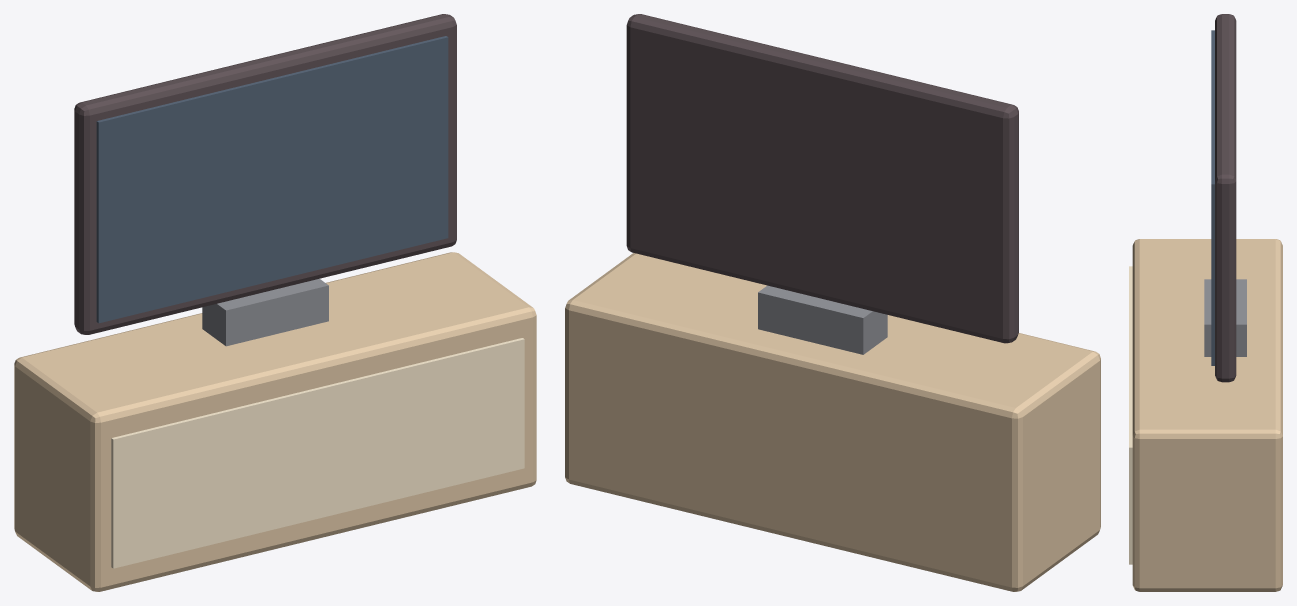
3 renders of one model, left to right at view 1: azimuth 30°, elevation 25°; view 2: azimuth 150°, elevation 25°; view 3: azimuth 270°, elevation 25°, orthographic. The views are drawn at different scales.
Visible parts, largest first — view 1: tv; view 2: tv; view 3: tv.
Boxes of the visible parts, x1,y1,x2,y2 form: tv: (14, 14, 536, 591); tv: (565, 14, 1100, 591); tv: (1129, 14, 1282, 591).
Size of the model in its own units: 1.3 by 1.24 by 0.43.
